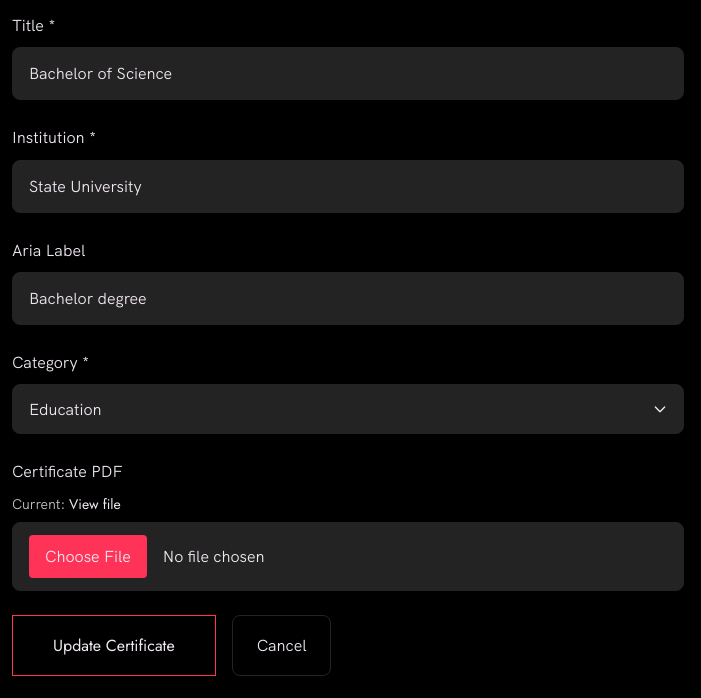
CertificateForm Component › Error Handling › shows error div when error occurs
Replace the text in the field labelled "Title *" with "Updated Title": [348, 74] box x1=12 y1=47 x2=684 y2=100
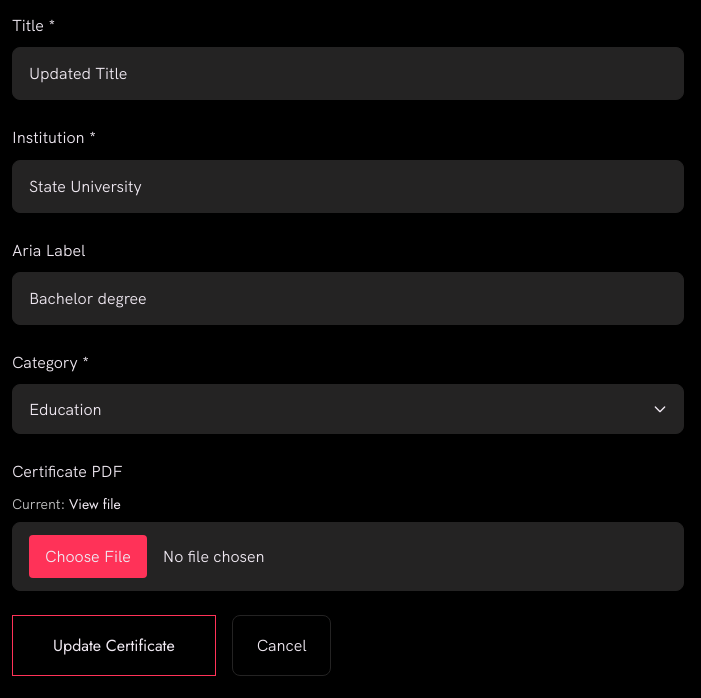
Click the button "Update Certificate": [114, 645] box x1=12 y1=615 x2=216 y2=676
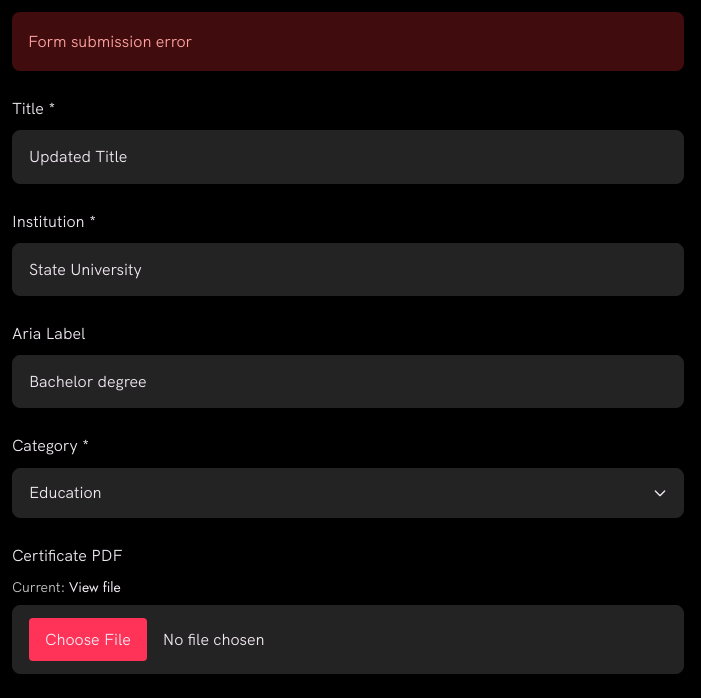
Expected: the text "Form submission error" is shown, x1=12 y1=12 x2=684 y2=71
